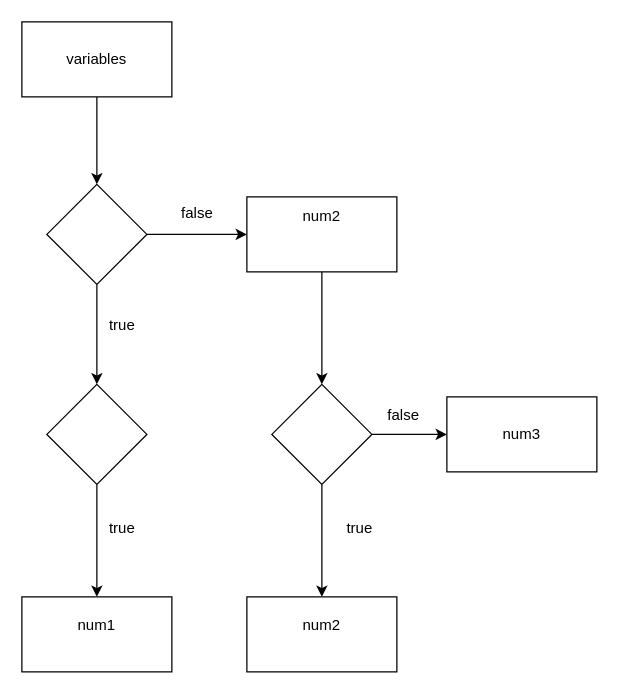
Some shapes in this 619 by 694 pixel diagram are drawn without their labels. The centre of each missing label's shape, as x and y in pixels:
"num1<num2" goes at (96,233).
"num1<num3" goes at (96,433).
"num2<num3" goes at (321,433).
